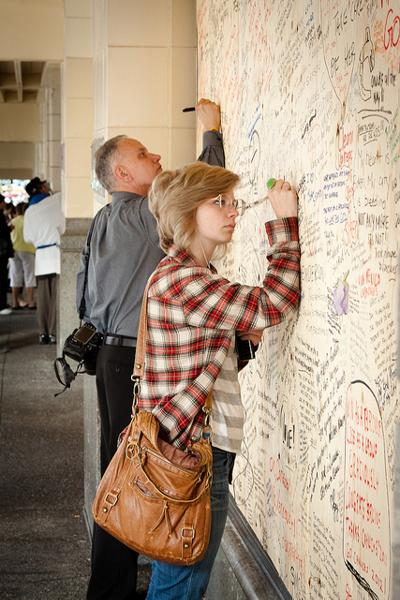person: (135, 163, 303, 600)
